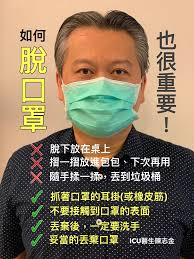Mask: (59, 26, 141, 137)
